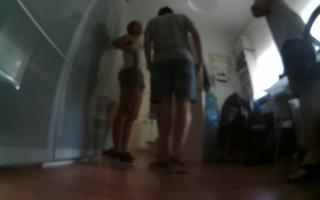person: (249, 1, 320, 187), (139, 4, 206, 177), (104, 16, 152, 175)
